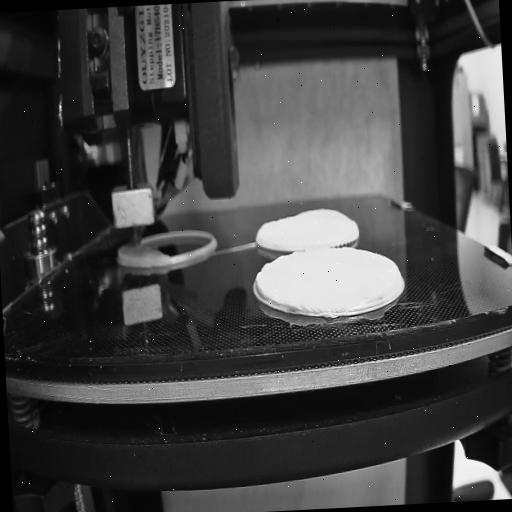over_extrusion: (254, 268, 272, 302)
